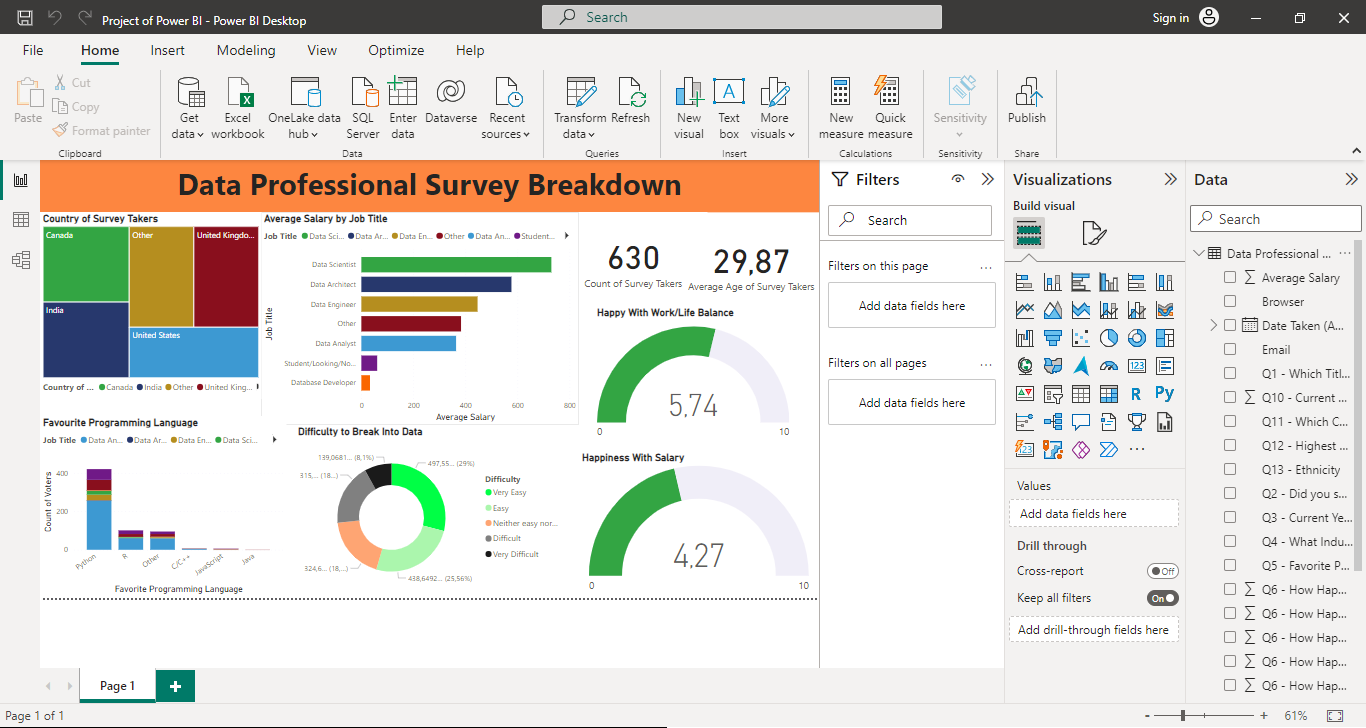

This screenshot's page, from the dashboard's own definition file:
{"tool":"powerbi","page":{"name":"Page 1","canvas":[1280,720],"ordinal":0},"visuals":[{"type":"textbox","box":[0,0,1280,85.6],"z":0},{"type":"card","fields":{"Values":["Count(Data Professional Survey.Unique ID)"]},"box":[853.3,85.7,243.6,156.2],"z":1000},{"type":"card","fields":{"Values":["Avg(Data Professional Survey.Q10 - Current Age)"]},"box":[1056.2,97.1,223.8,144.8],"z":2000},{"type":"barChart","title":"Average Salary by Job Title","fields":{"Category":["Data Professional Survey.Q1 - Which Title Best Fits your Current Role?.1"],"Y":["Avg(Data Professional Survey.Average Salary)"],"Series":["Data Professional Survey.Q1 - Which Title Best Fits your Current Role?.1"]},"box":[363.7,85.6,522.3,349.4],"z":3000},{"type":"columnChart","title":"Favourite Programming Language","fields":{"Category":["Data Professional Survey.Q5 - Favorite Programming Language.1"],"Y":["CountNonNull(Data Professional Survey.Unique ID)"],"Series":["Data Professional Survey.Q1 - Which Title Best Fits your Current Role?.1"]},"box":[0,420.7,404.7,297.7],"z":4000},{"type":"treemap","title":"Country of Survey Takers","fields":{"Group":["Data Professional Survey.Q11 - Which Country do you live in?.1"],"Values":["Count(Data Professional Survey.Q11 - Which Country do you live in?.1)"]},"box":[0,85.6,363.7,306.6],"z":5000},{"type":"gauge","title":"Happy With Work/Life Balance","fields":{"Y":["Avg(Data Professional Survey.Q6 - How Happy are you in your Current Position with the following? (Work/Life Balance))"],"MinValue":["Min(Data Professional Survey.Q6 - How Happy are you in your Current Position with the following? (Work/Life Balance))1"],"MaxValue":["Max(Data Professional Survey.Q6 - How Happy are you in your Current Position with the following? (Work/Life Balance))2"]},"box":[911,240.7,326.2,237.1],"z":6000},{"type":"gauge","title":"Happiness With Salary","fields":{"Y":["Avg(Data Professional Survey.Q6 - How Happy are you in your Current Position with the following? (Salary))"],"MinValue":["Min(Data Professional Survey.Q6 - How Happy are you in your Current Position with the following? (Salary))"],"MaxValue":["Max(Data Professional Survey.Q6 - How Happy are you in your Current Position with the following? (Salary))"]},"box":[886,477.8,394,240.7],"z":7000},{"type":"donutChart","title":"Difficulty to Break Into Data","fields":{"Y":["Avg(Data Professional Survey.Average Salary)"],"Category":["Data Professional Survey.Q7 - How difficult was it for you to break into Data?"]},"box":[418.9,435,449.2,285.2],"z":8000}]}

Visuals, with their boxes on the page's 1280x720 design canvas (x1, y1, x2, y2). These are canvas units, not pixel positions in the 1366x728 screenshot, which may show the page scaled, cropped or inside an application window:
textbox: {"x1": 0, "y1": 0, "x2": 1280, "y2": 86}
card - Count(Data Professional Survey.Unique ID): {"x1": 853, "y1": 86, "x2": 1097, "y2": 242}
card - Avg(Data Professional Survey.Q10 - Current Age): {"x1": 1056, "y1": 97, "x2": 1280, "y2": 242}
"Average Salary by Job Title" barChart: {"x1": 364, "y1": 86, "x2": 886, "y2": 435}
"Favourite Programming Language" columnChart: {"x1": 0, "y1": 421, "x2": 405, "y2": 718}
"Country of Survey Takers" treemap: {"x1": 0, "y1": 86, "x2": 364, "y2": 392}
"Happy With Work/Life Balance" gauge: {"x1": 911, "y1": 241, "x2": 1237, "y2": 478}
"Happiness With Salary" gauge: {"x1": 886, "y1": 478, "x2": 1280, "y2": 718}
"Difficulty to Break Into Data" donutChart: {"x1": 419, "y1": 435, "x2": 868, "y2": 720}
